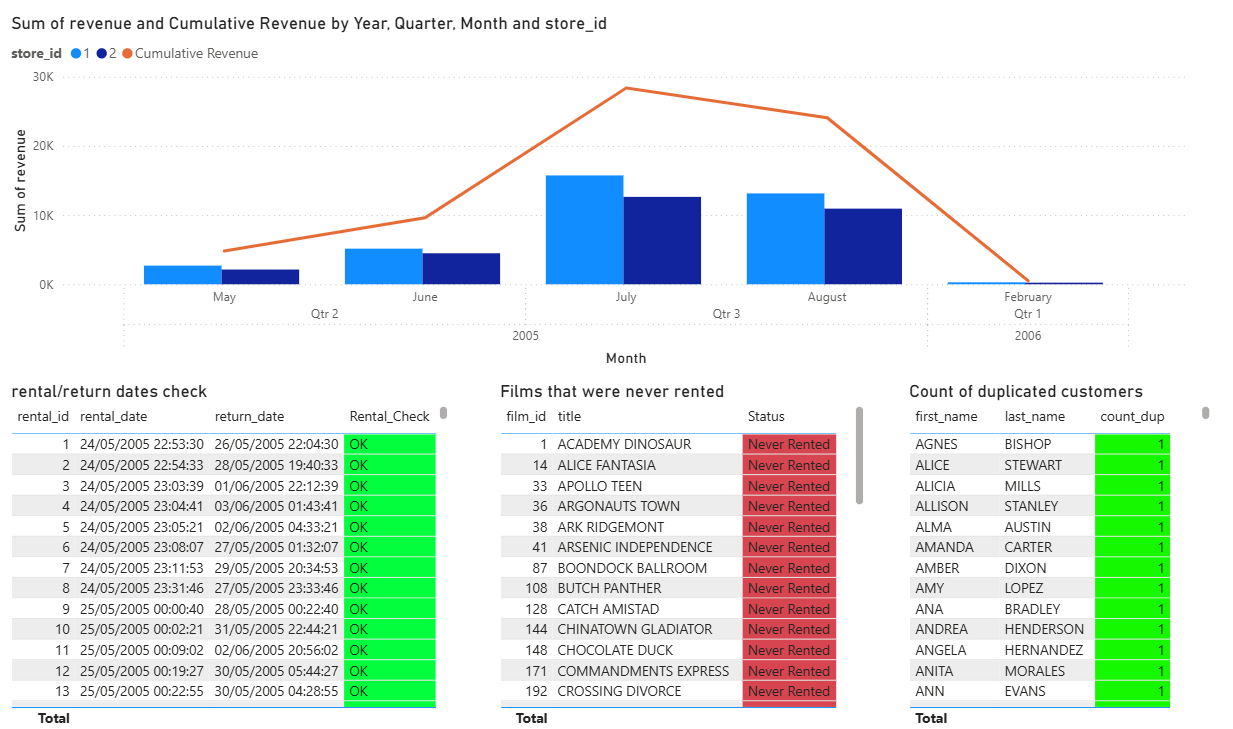

The dashboard page shown, as its layout file describes it:
{"tool":"powerbi","page":{"name":"Page 2","canvas":[1280,720],"ordinal":1},"visuals":[{"type":"lineClusteredColumnComboChart","fields":{"Category":["v_monthly_revenue.Date.Variation.Date Hierarchy.Year","v_monthly_revenue.Date.Variation.Date Hierarchy.Quarter","v_monthly_revenue.Date.Variation.Date Hierarchy.Month","v_monthly_revenue.Date.Variation.Date Hierarchy.Day"],"Series":["v_monthly_revenue.store_id"],"Y":["Sum(v_monthly_revenue.revenue)"],"Y2":["v_monthly_revenue.Cumulative Revenue"]},"box":[71,20.4,1155.5,349.2],"z":0},{"type":"actionButton","box":[0,0,100,40],"z":1000},{"type":"tableEx","title":"rental/return dates check","fields":{"Values":["v_rental_cleaning.rental_id","v_rental_cleaning.rental_date","v_rental_cleaning.return_date","v_rental_cleaning.Rental_Check"]},"box":[50,378.7,434.7,341.7],"z":1001},{"type":"tableEx","title":"Films that were never rented","fields":{"Values":["v_never_rented_films.film_id","v_never_rented_films.title","v_never_rented_films.Status"]},"box":[525.6,378.7,363.7,341.7],"z":1002},{"type":"tableEx","title":"Count of duplicated customers","fields":{"Values":["v_customer_duplicates.first_name","v_customer_duplicates.last_name","v_customer_duplicates.count_dup"]},"box":[923.3,378.7,302.8,341.7],"z":1003}]}

Visuals, with their boxes on the page's 1280x720 design canvas (x1, y1, x2, y2). These are canvas units, not pixel positions in the 1233x729 screenshot, which may show the page scaled, cropped or inside an application window:
lineClusteredColumnComboChart - v_monthly_revenue.Date.Variation.Date Hierarchy.Year x v_monthly_revenue.Date.Variation.Date Hierarchy.Quarter: [71, 20, 1226, 370]
actionButton: [0, 0, 100, 40]
"rental/return dates check" tableEx: [50, 379, 485, 720]
"Films that were never rented" tableEx: [526, 379, 889, 720]
"Count of duplicated customers" tableEx: [923, 379, 1226, 720]
